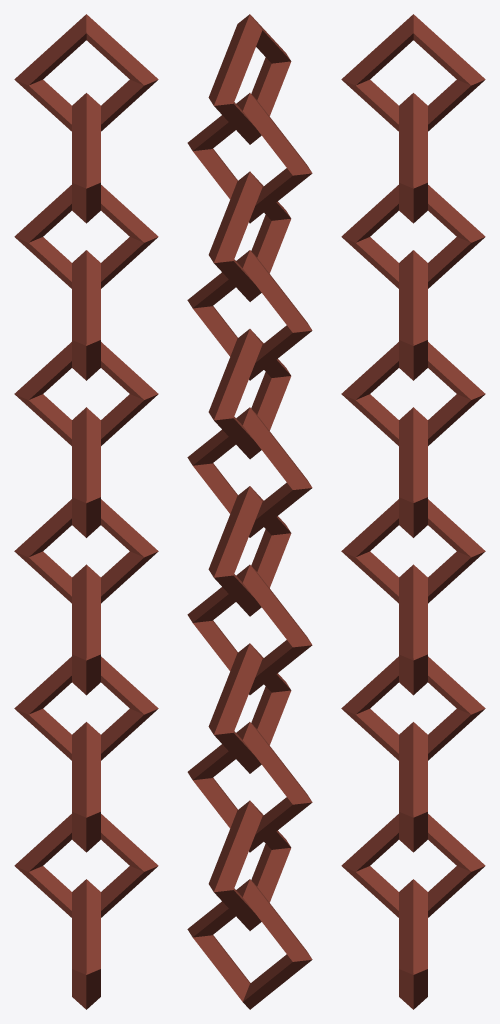
The model's file is Chain_1_Red.fbx.
3 views of the same model, side by side, from view 1: azimuth 90°, elevation 25°; view 2: azimuth 150°, elevation 25°; view 3: azimuth 270°, elevation 25° (orthographic).
Parts seen in each view (by area): view 1: Chain_1_Red; view 2: Chain_1_Red; view 3: Chain_1_Red.
Boxes of the visible parts, x1,y1,x2,y2 form: Chain_1_Red: (14, 14, 158, 1009); Chain_1_Red: (187, 14, 312, 1009); Chain_1_Red: (341, 14, 485, 1009).
Size of the model in its own units: 15 by 114 by 15.
